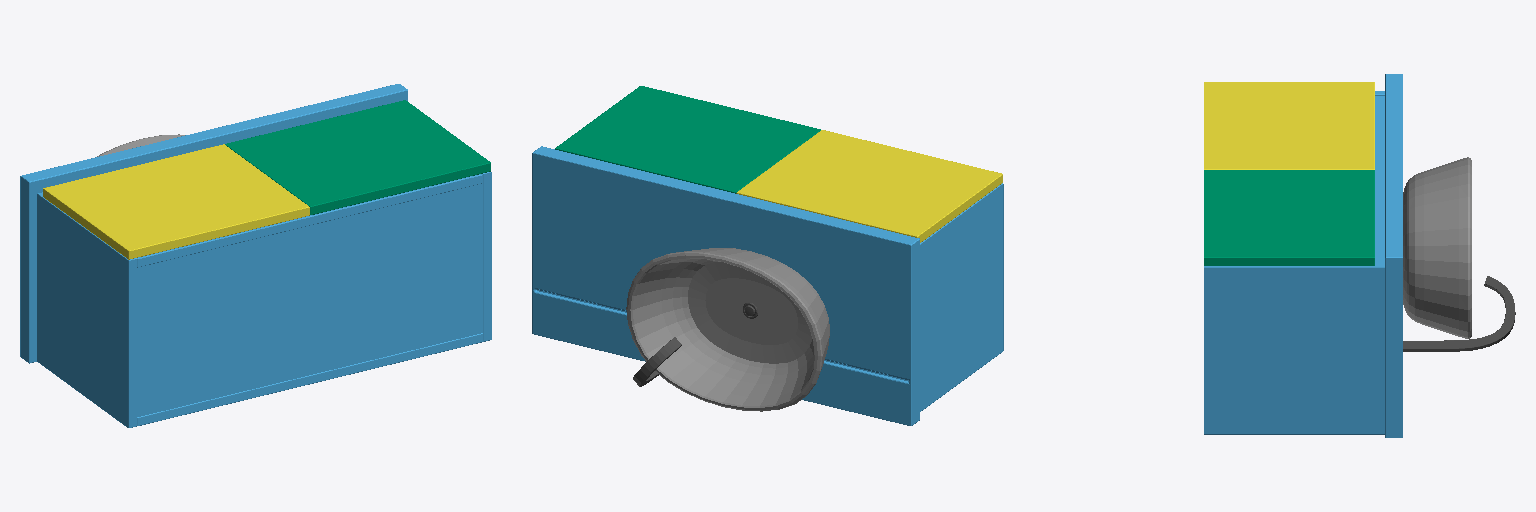
robot.urdf — 181:
<robot name="181">


	<link name="0:virtual">
		<visual>
			<origin xyz="0.0 0.0 0.0" rpy="0 0 0"/>
			<geometry>
				<cylinder length="0" radius="0"/>
			</geometry>
		</visual>
	</link>


	<link name="1:static">
		<visual>
			<origin xyz="-0.0 -0.0 -0.0" rpy="0 0 0"/>
			<geometry>
				<mesh filename="../raw_data/181/part_meshes/1.dae" />
			</geometry>
		</visual>
	</link>


	<link name="2:cabinet door 1">
		<visual>
			<origin xyz="-0.4590969979763031 -0.5384780019521713 -0.18807999789714813" rpy="0 0 0"/>
			<geometry>
				<mesh filename="../raw_data/181/part_meshes/2.dae" />
			</geometry>
		</visual>
	</link>


	<link name="3:cabinet door 2">
		<visual>
			<origin xyz="0.4596639871597292 -0.5384780019521713 -0.17709099501371384" rpy="0 0 0"/>
			<geometry>
				<mesh filename="../raw_data/181/part_meshes/3.dae" />
			</geometry>
		</visual>
	</link>


	<joint name="0:virtual::1:static" type="fixed">
		<parent link="0:virtual"/>
		<child link="1:static"/>
		<origin xyz="0.0 0.0 0.0" rpy="0 0 0"/>
	</joint>


	<joint name="0:virtual::2:cabinet door 1_rotation" type="revolute">
		<parent link="0:virtual"/>
		<child link="2:cabinet door 1"/>
		<origin xyz="0.4590969979763031 0.5384780019521713 0.18807999789714813" rpy="0 0 0"/>
		<limit lower="0.0" upper="1.4922565104551517" effort="10" velocity="3"/>
		<axis xyz="0.0 1.0 0.0"/>
	</joint>


	<joint name="0:virtual::3:cabinet door 2_rotation" type="revolute">
		<parent link="0:virtual"/>
		<child link="3:cabinet door 2"/>
		<origin xyz="-0.4596639871597292 0.5384780019521713 0.17709099501371384" rpy="0 0 0"/>
		<limit lower="-1.7592918860102844" upper="0.0" effort="10" velocity="3"/>
		<axis xyz="0.0 1.0 0.0"/>
	</joint>


</robot>

--- What the picture shows (computed from the rendered views, not written in the file) ---
The picture shows the robot from 3 angles, left to right: view 1: azimuth 30°, elevation 25°; view 2: azimuth 150°, elevation 25°; view 3: azimuth 270°, elevation 25°; orthographic projection.
Model 181 with 4 links and 3 joints (2 revolute, 1 fixed), rooted at 0:virtual, posed every joint at zero.
Links seen in each view (by area): view 1: 1:static, 3:cabinet door 2, 2:cabinet door 1; view 2: 1:static, 3:cabinet door 2, 2:cabinet door 1; view 3: 1:static, 2:cabinet door 1, 3:cabinet door 2.
Boxes of the visible links, box(x1,y1,x2,y2) form: 1:static: box(20, 84, 491, 427); 3:cabinet door 2: box(43, 144, 309, 259); 2:cabinet door 1: box(225, 100, 490, 214); 1:static: box(532, 146, 1003, 425); 3:cabinet door 2: box(736, 130, 1002, 242); 2:cabinet door 1: box(555, 86, 820, 193); 1:static: box(1204, 74, 1515, 437); 2:cabinet door 1: box(1204, 170, 1374, 265); 3:cabinet door 2: box(1204, 82, 1374, 169).
Bounding box of the posed robot: 0.96 × 1.04 × 0.44 m (x, y, z).
3 mesh visuals loaded from 3 distinct referenced files (3 Collada DAE).